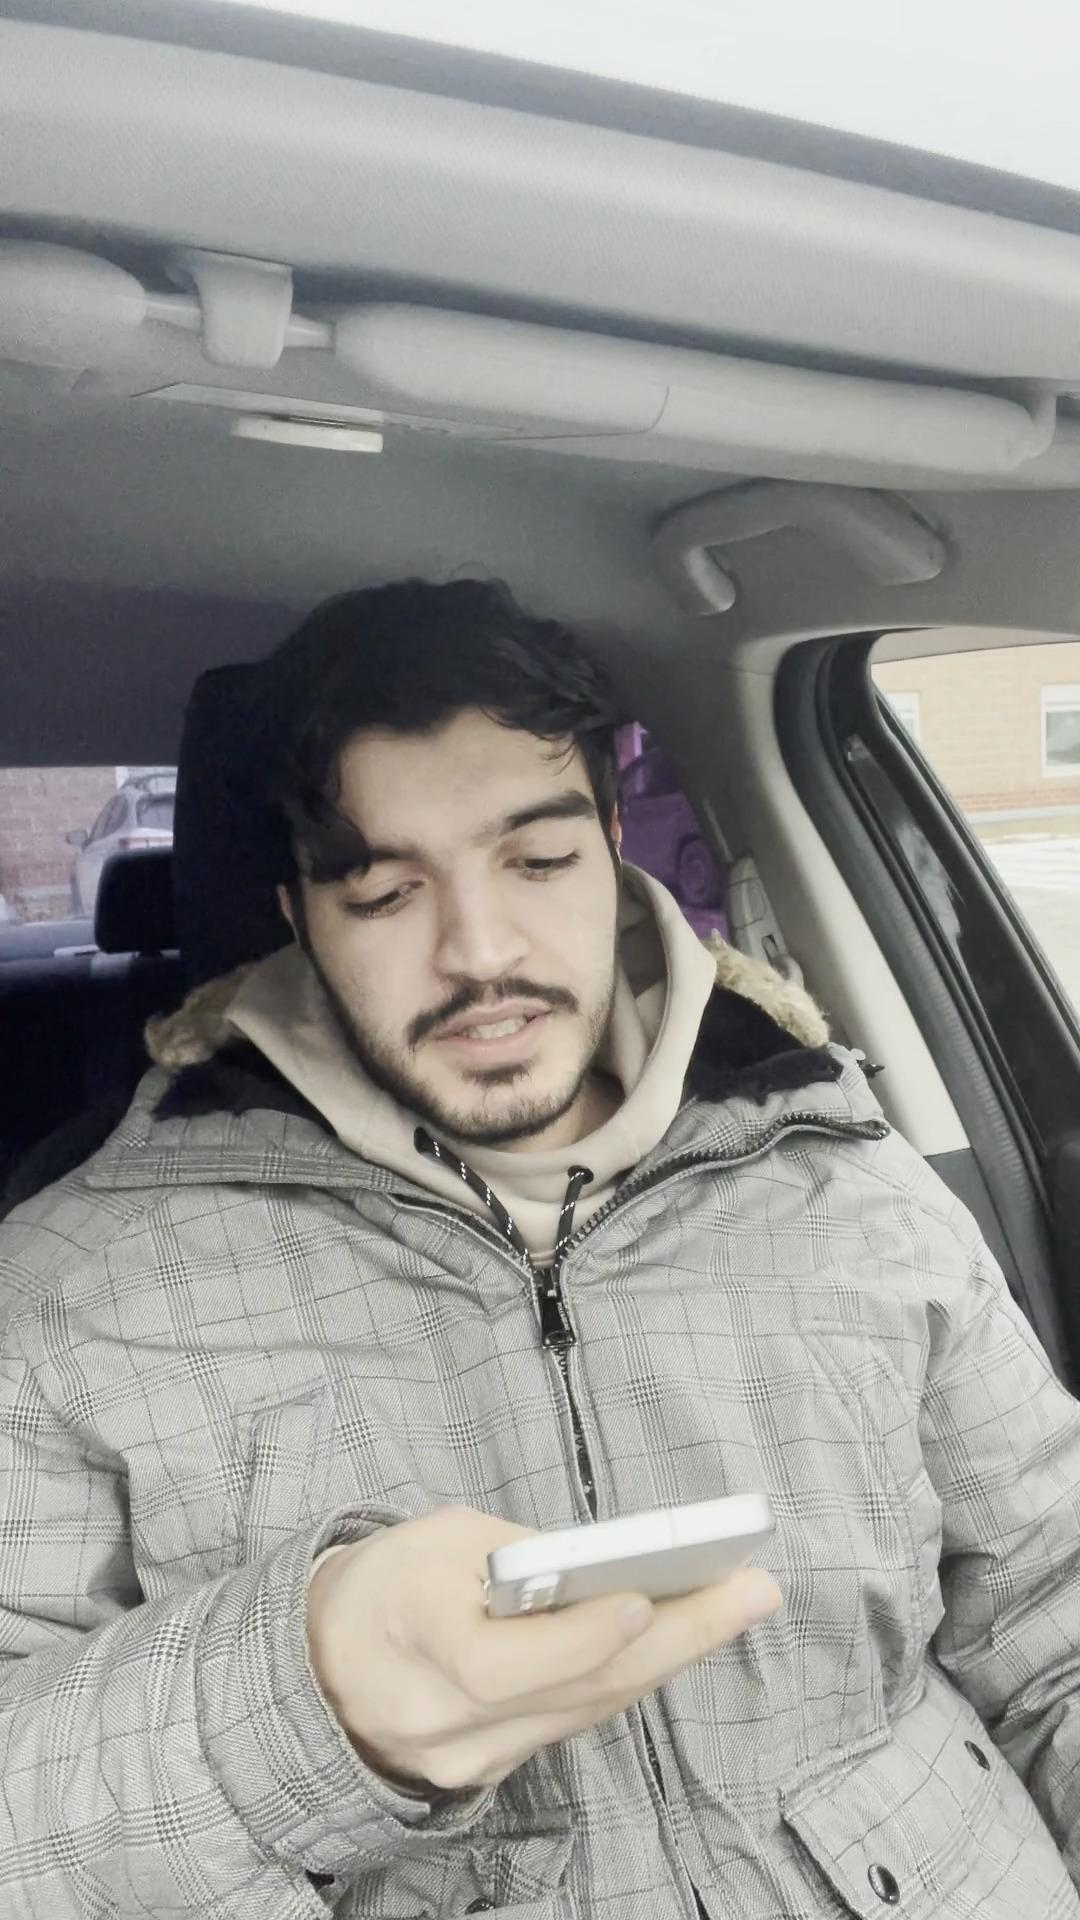mobile: (475, 1495, 810, 1635)
no_seatbelt: (115, 1164, 953, 1920)
